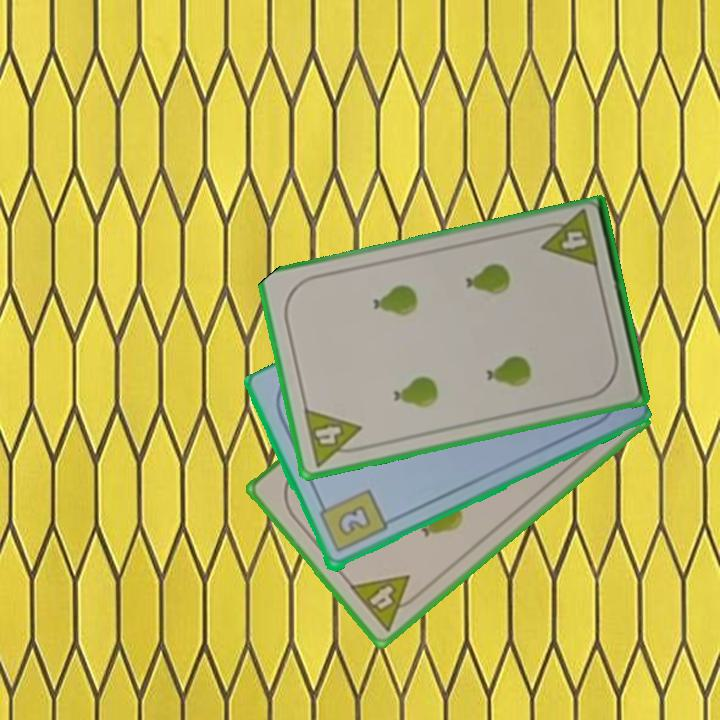2b: (315, 486, 390, 557)
4p: (345, 571, 426, 635), (300, 405, 368, 470), (535, 208, 601, 272)
